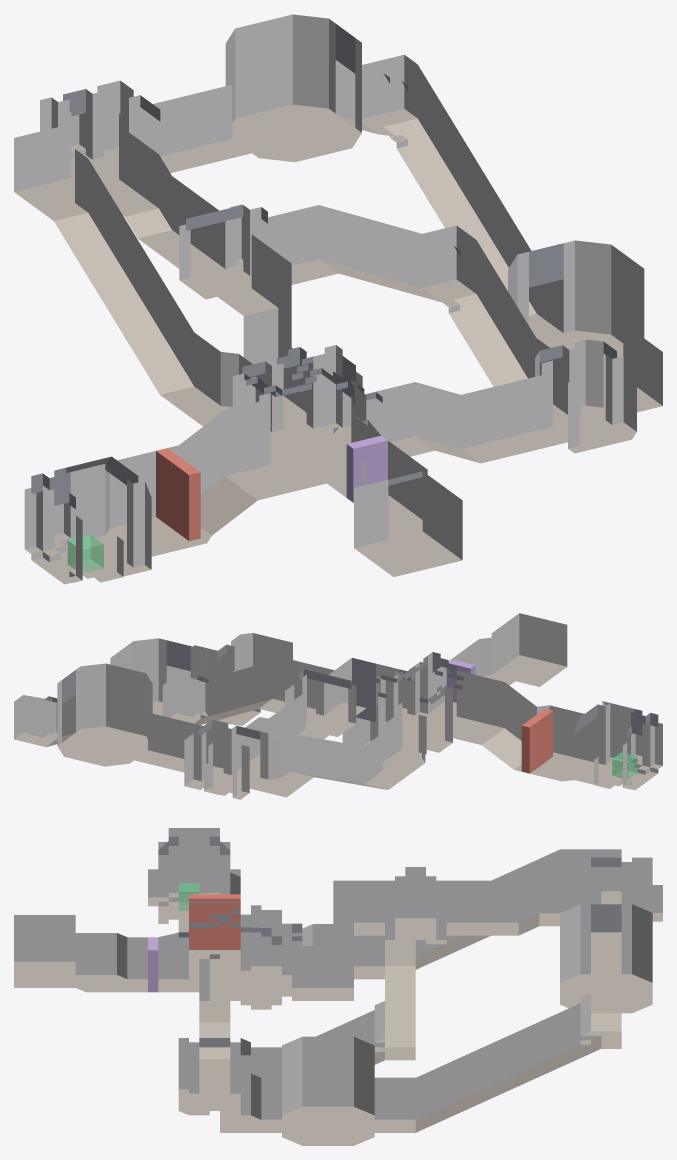
Rendered from deeplab_06.glb.
The picture shows the model from 3 angles, top to bottom: view 1: azimuth 30°, elevation 25°; view 2: azimuth 150°, elevation 25°; view 3: azimuth 270°, elevation 25°; orthographic projection. The views are drawn at different scales.
Visible parts, largest first — view 1: corridor:6, corridor:0, corridor:5, corridor:1, corridor:2, room:1, corridor:3, room:5, room:2, entities, corridor:7, room:3 (+13 smaller); view 2: corridor:6, corridor:1, corridor:0, corridor:5, room:5, room:1, room:2, corridor:7, room:0, entities, corridor:3, room:1/portals (+14 smaller); view 3: corridor:6, corridor:3, corridor:5, corridor:0, corridor:7, room:1, room:5, room:2, corridor:4, entities, room:4, corridor:2 (+12 smaller).
Part boxes in pixels (bbox=[...]): corridor:6: bbox=[140, 14, 662, 412]; corridor:0: bbox=[14, 126, 265, 426]; corridor:5: bbox=[261, 205, 562, 413]; corridor:1: bbox=[105, 401, 314, 556]; corridor:2: bbox=[369, 375, 560, 463]; room:1: bbox=[232, 345, 366, 486]; corridor:3: bbox=[107, 130, 218, 270]; room:5: bbox=[354, 471, 462, 576]; room:2: bbox=[31, 457, 151, 584]; entities: bbox=[67, 435, 387, 572]; corridor:7: bbox=[224, 239, 306, 423]; room:3: bbox=[535, 339, 636, 453]; corridor:6: bbox=[14, 638, 226, 772]; corridor:1: bbox=[456, 672, 597, 781]; corridor:0: bbox=[255, 714, 426, 797]; corridor:5: bbox=[162, 661, 312, 725]; room:5: bbox=[491, 613, 567, 686]; room:1: bbox=[378, 652, 471, 755]; room:2: bbox=[574, 701, 658, 790]; corridor:7: bbox=[328, 658, 378, 746]; room:0: bbox=[184, 719, 268, 799]; entities: bbox=[446, 659, 637, 779]; corridor:3: bbox=[236, 695, 324, 777]; room:1/portals: bbox=[385, 652, 452, 751]; corridor:6: bbox=[220, 904, 652, 1145]; corridor:3: bbox=[446, 871, 590, 935]; corridor:5: bbox=[251, 944, 415, 1077]; corridor:0: bbox=[292, 849, 621, 979]; corridor:7: bbox=[292, 880, 384, 1000]; room:1: bbox=[189, 905, 302, 1005]; room:5: bbox=[14, 915, 75, 987]; room:2: bbox=[158, 828, 230, 923]; corridor:4: bbox=[75, 933, 147, 992]; entities: bbox=[148, 883, 240, 992]; room:4: bbox=[385, 867, 446, 944]; corridor:2: bbox=[199, 959, 230, 1089].
Bounding box in the file's own units: 58 × 17.5 × 63.
